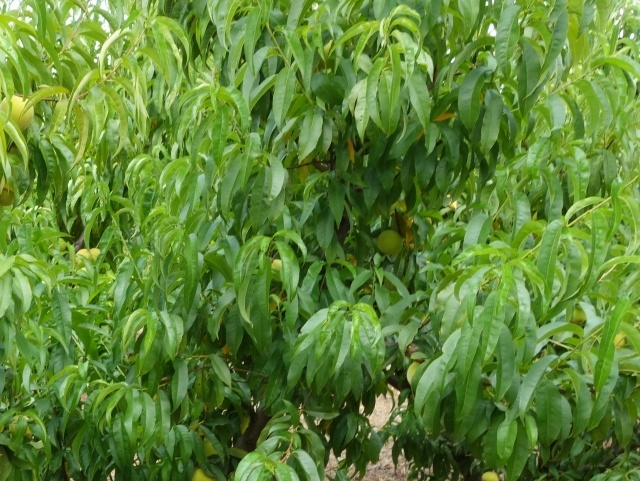peach: (373, 226, 405, 255)
